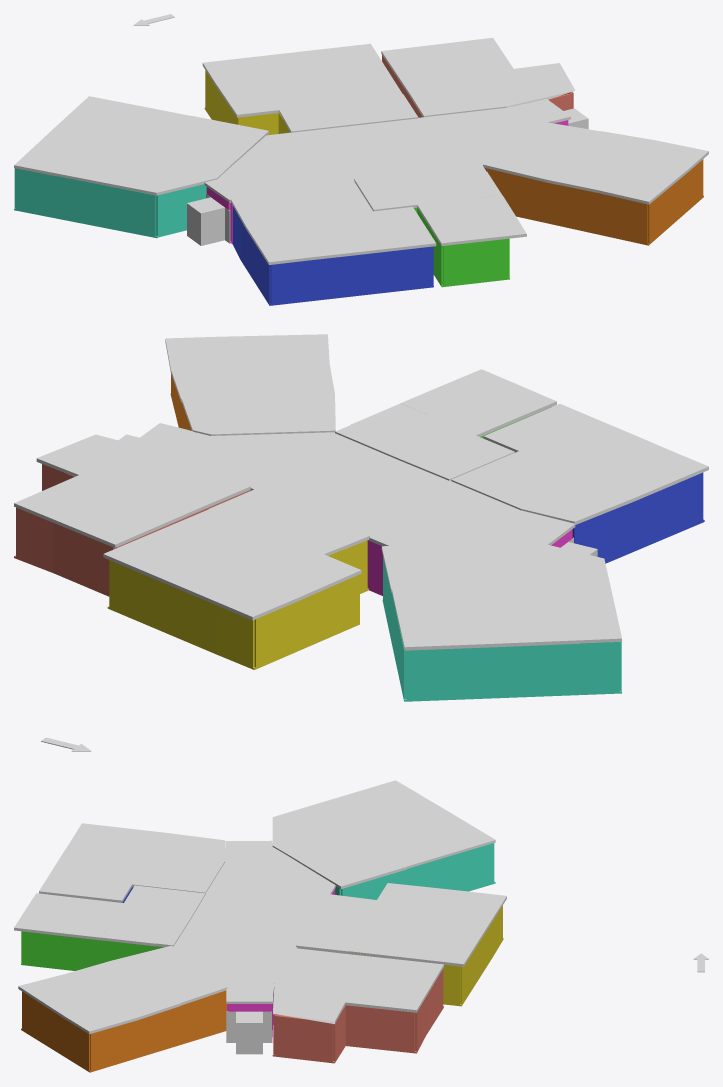
The model's file is Greybox_V4.fbx.
3 renders of one model, top to bottom at view 1: azimuth 30°, elevation 25°; view 2: azimuth 150°, elevation 25°; view 3: azimuth 270°, elevation 25°, orthographic. The views are drawn at different scales.
Parts seen in each view (by area): view 1: Celling for Hallway, Cellings R5, Cellings R3, Cellings R6, Cellings R2, Cellings R1, Room 2, Cellings R4, Room 6, Room 5, Room 4, Room 3 (+2 smaller); view 2: Celling for Hallway, Cellings R5, Cellings R3, Cellings R6, Cellings R2, Cellings R1, Room 3, Room 5, Cellings R4, Room 6, Room 1, 25X3X0.1 Floor; view 3: Celling for Hallway, Cellings R5, Cellings R3, Cellings R6, Cellings R2, Cellings R1, Room 2, Cellings R4, Room 1, Room 5, Room 4, Room 3 (+1 smaller).
Part boxes in pixels (x1,y1,x2,y2): Celling for Hallway: (204,99,570,202); Cellings R5: (14,96,268,195); Cellings R3: (202,43,418,132); Cellings R6: (230,179,436,264); Cellings R2: (483,121,708,204); Cellings R1: (381,37,575,117); Room 2: (485,159,703,245); Cellings R4: (354,164,526,245); Room 6: (232,206,433,305); Room 5: (14,168,206,238); Room 4: (414,207,509,287); Room 3: (204,70,290,135); Celling for Hallway: (132,423,575,546); Cellings R5: (381,540,621,650); Cellings R3: (103,488,369,620); Cellings R6: (451,404,708,524); Cellings R2: (165,334,335,435); Cellings R1: (14,434,250,547); Room 3: (107,540,368,669); Room 5: (382,556,621,701); Cellings R4: (335,369,556,480); Room 6: (572,472,704,563); Room 1: (14,464,250,596); 25X3X0.1 Floor: (367,529,572,595); Celling for Hallway: (173,840,335,1003); Cellings R5: (272,780,495,888); Cellings R3: (296,883,506,966); Cellings R6: (39,823,224,902); Cellings R2: (18,945,227,1034); Cellings R1: (273,948,443,1024); Room 2: (21,990,226,1072); Cellings R4: (14,885,205,947); Room 1: (272,969,443,1063); Room 5: (335,843,495,899); Room 4: (21,931,163,970); Room 3: (349,905,503,1006).
Bounding box in the file's own units: 7883 × 635 × 9212.
